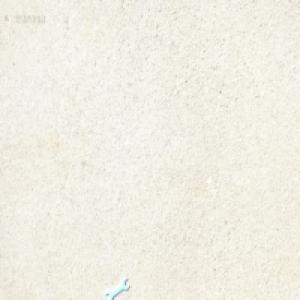Wrench: (106, 275, 130, 299)
